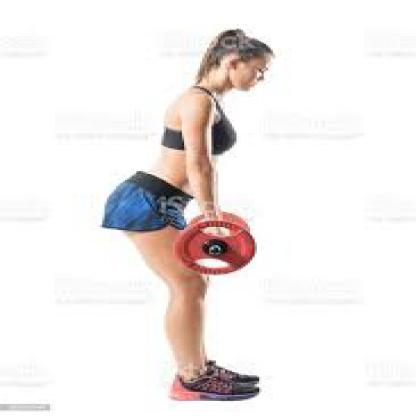Barbell: (166, 213, 266, 280)
